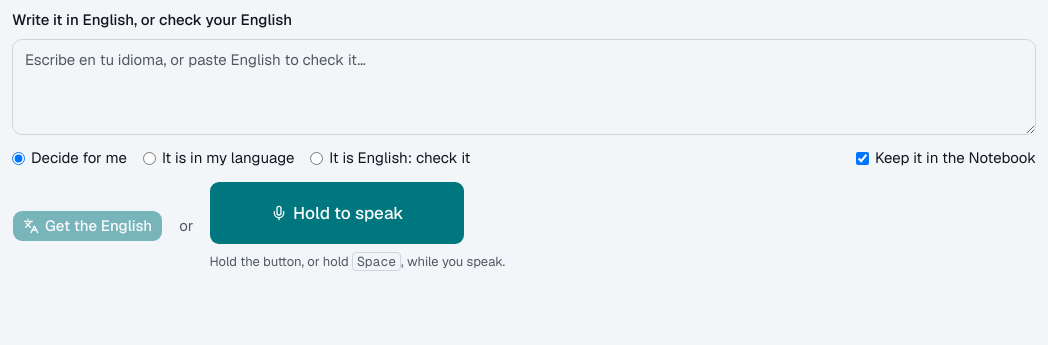
Scenario: a failure is said in the API's words
Step 1. Type "hola" into the text box labelled "Write it in English, or check your English" → (524, 87), box [12,39,1036,135]
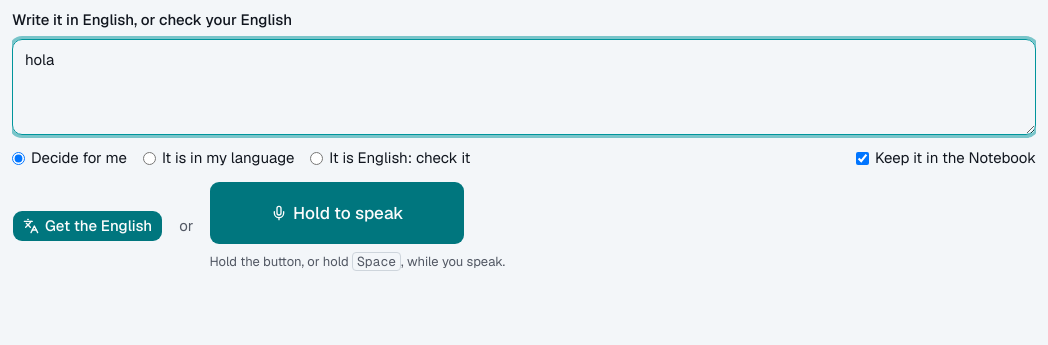
Step 2. Click the button "Get the English" → (88, 226), box [12,210,163,242]
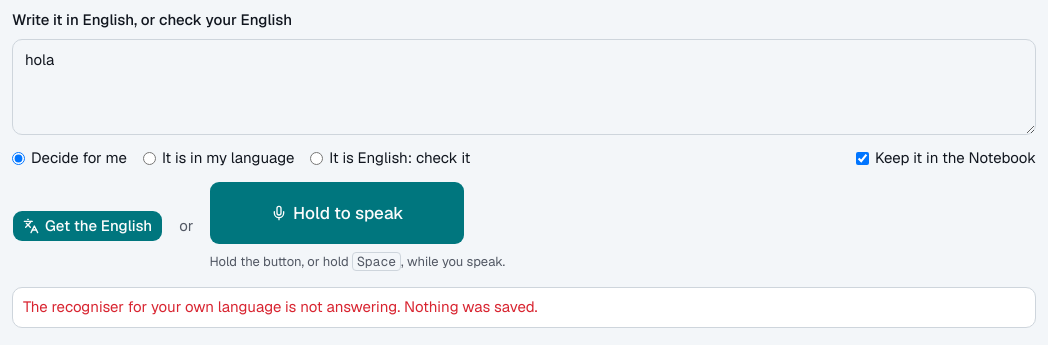
expect the text "Nothing was saved" is shown: met, box [23,297,538,316]
